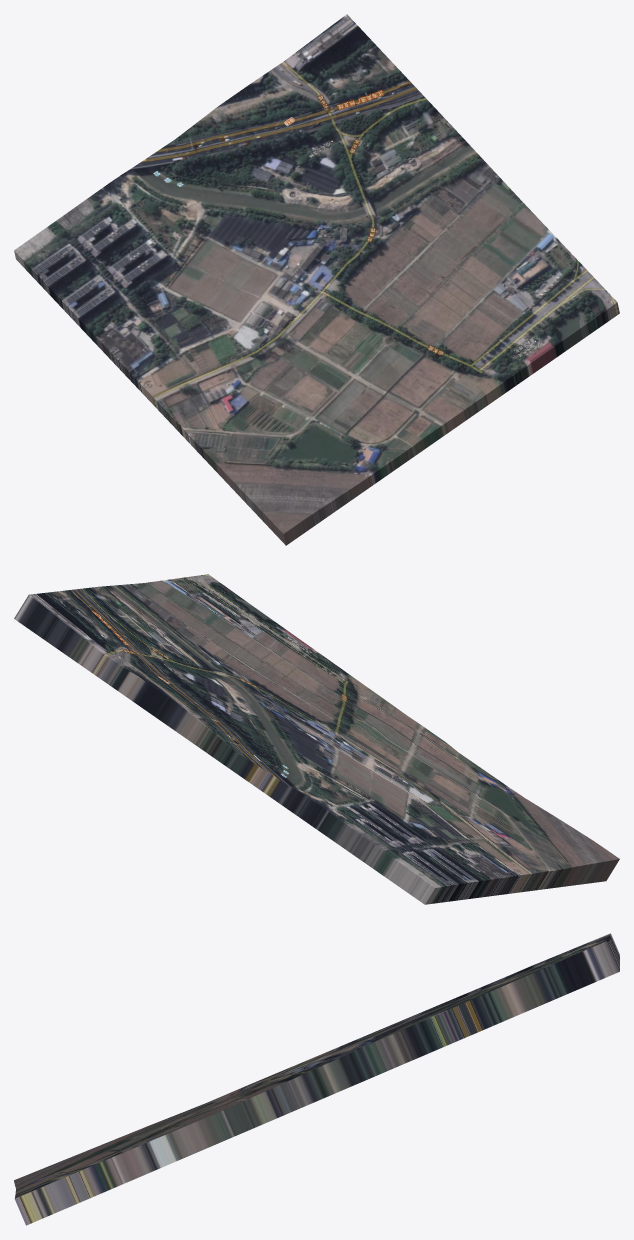
3 views of the same model, one above another, from view 1: azimuth 30°, elevation 25°; view 2: azimuth 150°, elevation 25°; view 3: azimuth 270°, elevation 25° (orthographic). The views are drawn at different scales.
Parts seen in each view (by area): view 1: 0_2_30; view 2: 0_2_30; view 3: 0_2_30.
Part boxes in pixels (x1,y1,x2,y2): 0_2_30: (14, 14, 619, 545); 0_2_30: (14, 574, 619, 904); 0_2_30: (14, 933, 619, 1225).
Bounding box in the file's own units: 600 × 455 × 553.
1 material, 1 textured.
